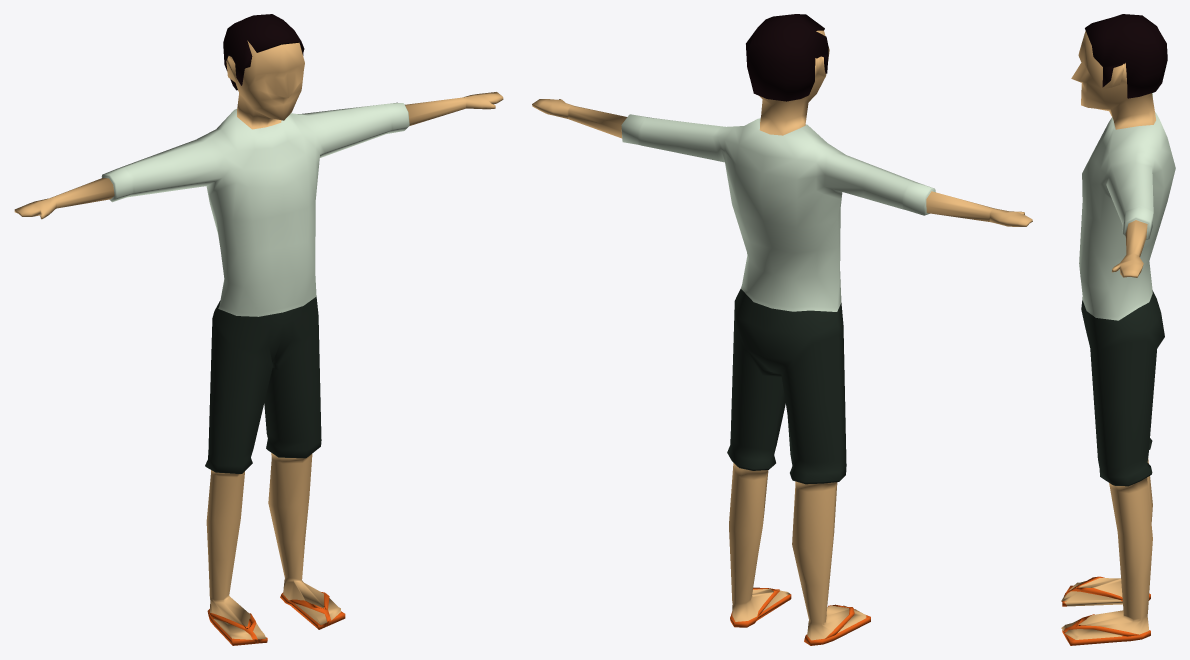
The model's file is Tryjuan.fbx.
3 views of the same model, side by side, from view 1: azimuth 30°, elevation 25°; view 2: azimuth 150°, elevation 25°; view 3: azimuth 270°, elevation 25° (orthographic). The views are drawn at different scales.
Parts seen in each view (by area): view 1: temple4juan; view 2: temple4juan; view 3: temple4juan.
Part boxes in pixels (<box>): temple4juan: <box>14,14,503,645</box>; temple4juan: <box>532,14,1032,645</box>; temple4juan: <box>1061,14,1175,645</box>.
Bounding box in the file's own units: 1.46 × 1.72 × 0.2975.
